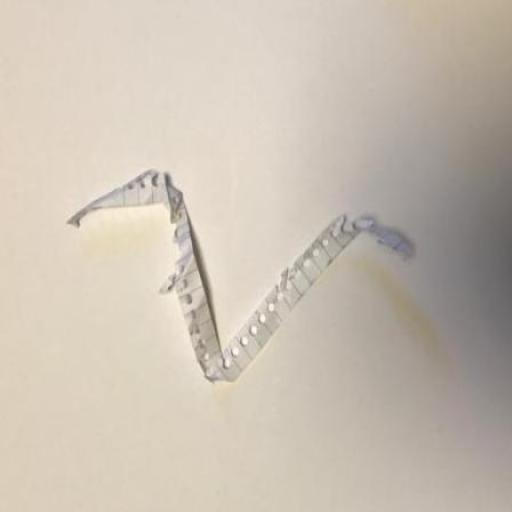paper: (49, 90, 441, 445)
